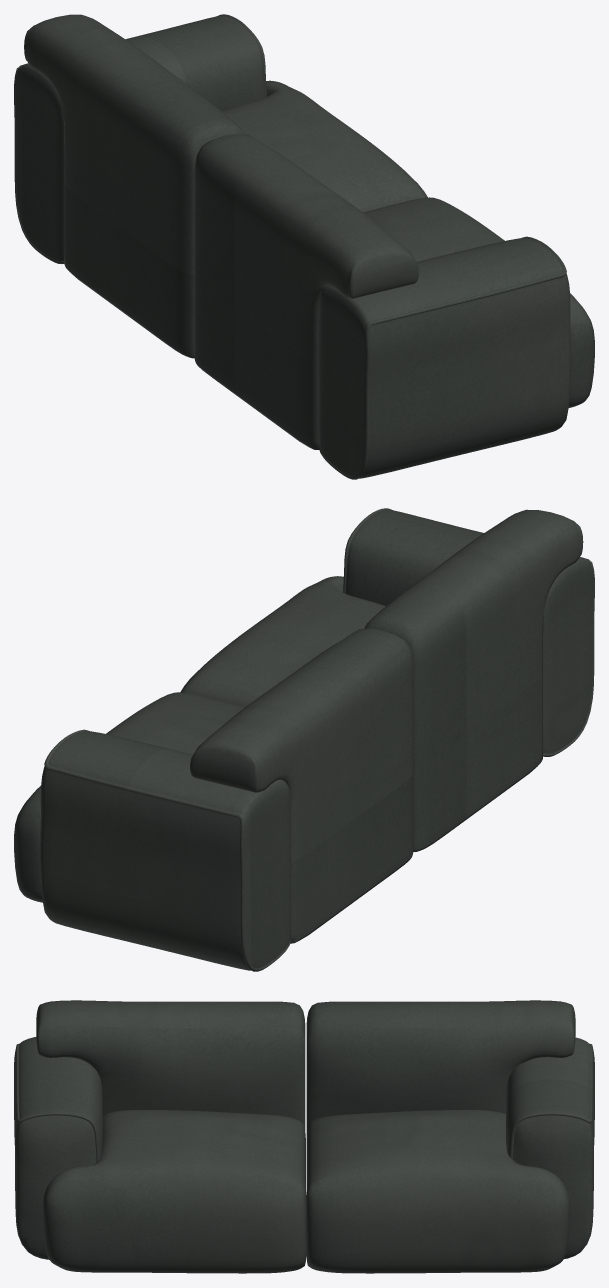
File: avalon.glb
3 views of the same model, one above another, from view 1: azimuth 30°, elevation 25°; view 2: azimuth 150°, elevation 25°; view 3: azimuth 270°, elevation 25° (orthographic). The views are drawn at different scales.
Visible parts, largest first — view 1: MAIN; view 2: MAIN; view 3: MAIN.
Part boxes in pixels (x1=…): MAIN: x1=14, y1=14, x2=594, y2=479; MAIN: x1=14, y1=508, x2=594, y2=971; MAIN: x1=14, y1=1000, x2=594, y2=1273.
Size of the model in its own units: 0.8519 by 0.7128 by 2.01.
Materials: 1 (1 with a texture image).
